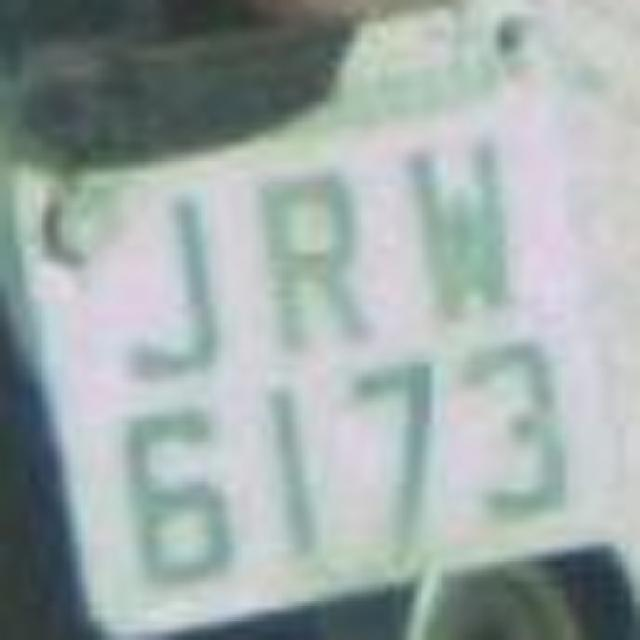1: (248, 360, 344, 568)
3: (432, 316, 596, 532)
6: (100, 380, 255, 612)
7: (332, 348, 456, 564)
B: (392, 111, 528, 324)
J: (108, 184, 240, 391)
R: (249, 160, 376, 368)
